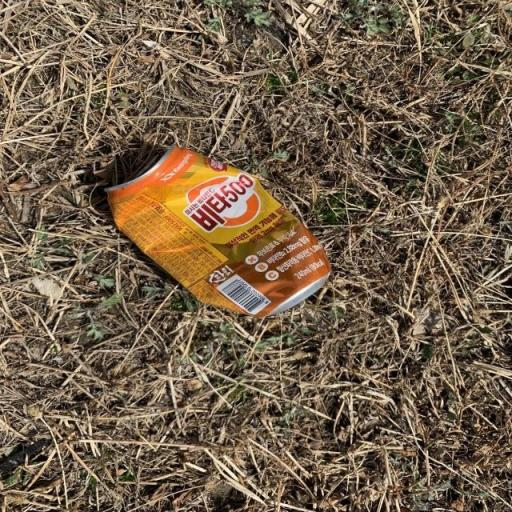metal: (91, 134, 343, 330)
